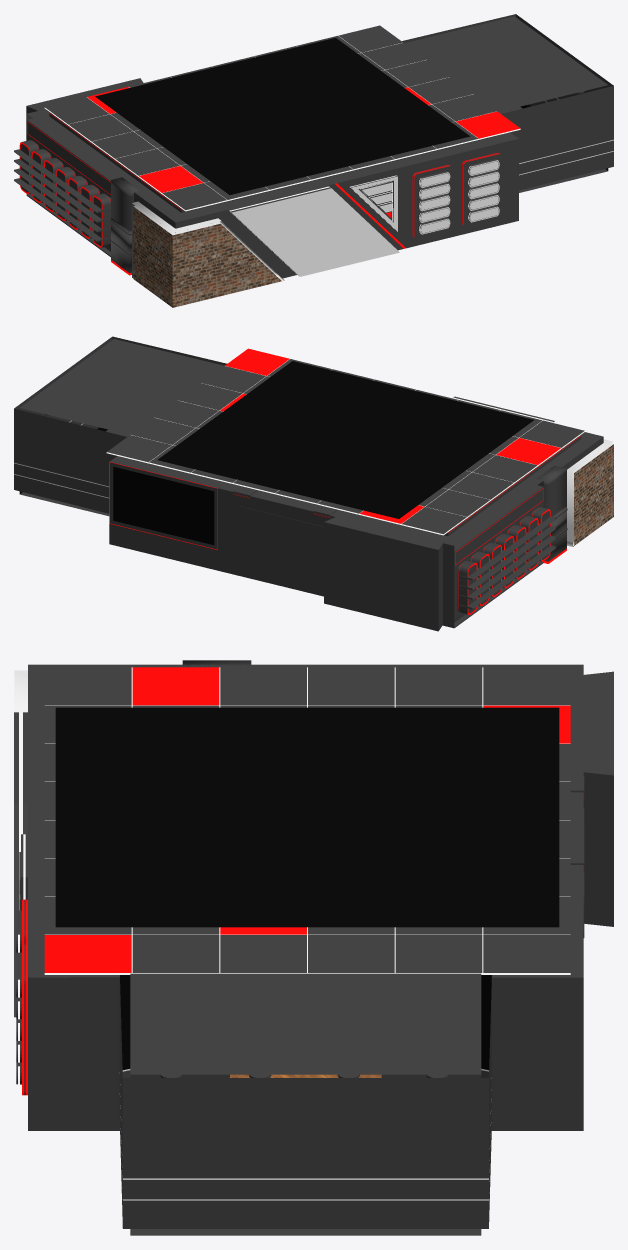
3 renders of one model, top to bottom at view 1: azimuth 30°, elevation 25°; view 2: azimuth 150°, elevation 25°; view 3: azimuth 270°, elevation 25°, orthographic. The views are drawn at different scales.
Parts seen in each view (by area): view 1: Black_Matt_8, Cube.023_41, Cube.016_33, White_Matt_0, brick_wall_005_1, Ascent_Color_4, Walls.011_12, Profile_Light_6, Light_Dim_7; view 2: Black_Matt_8, Cube.023_41, Cube.016_33, Black_Dark_5, Ascent_Color_4, brick_wall_005_1, Walls.011_12, White_Matt_0, Light_Dim_7, Profile_Light_6; view 3: Cube.023_41, Cube.016_33, Black_Matt_8, Ascent_Color_4, Profile_Light_6.
Boxes of the visible parts, bbox=[...] form: Black_Matt_8: bbox=[20, 25, 518, 279]; Cube.023_41: bbox=[95, 37, 470, 194]; Cube.016_33: bbox=[402, 14, 613, 192]; White_Matt_0: bbox=[132, 160, 499, 280]; brick_wall_005_1: bbox=[133, 207, 281, 307]; Ascent_Color_4: bbox=[19, 87, 520, 275]; Walls.011_12: bbox=[14, 149, 110, 241]; Profile_Light_6: bbox=[69, 35, 496, 274]; Light_Dim_7: bbox=[44, 107, 520, 211]; Black_Matt_8: bbox=[107, 359, 603, 631]; Cube.023_41: bbox=[157, 361, 533, 518]; Cube.016_33: bbox=[14, 336, 226, 516]; Black_Dark_5: bbox=[113, 466, 214, 545]; Ascent_Color_4: bbox=[109, 348, 581, 615]; brick_wall_005_1: bbox=[574, 444, 613, 545]; Walls.011_12: bbox=[459, 516, 556, 609]; White_Matt_0: bbox=[567, 439, 613, 546]; Light_Dim_7: bbox=[106, 431, 584, 535]; Profile_Light_6: bbox=[131, 359, 560, 523]; Cube.023_41: bbox=[55, 707, 559, 927]; Cube.016_33: bbox=[119, 973, 491, 1235]; Black_Matt_8: bbox=[14, 660, 613, 1130]; Ascent_Color_4: bbox=[22, 667, 583, 1095]; Profile_Light_6: bbox=[18, 667, 570, 1084].
Bounding box in the file's own units: 22.33 × 3.98 × 12.96.
Materials: 14 (2 with a texture image).
